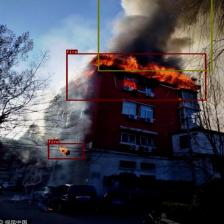fire: (66, 54, 206, 100), (48, 143, 84, 159)
smoke: (98, 0, 212, 71)
